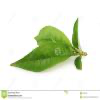Peach leaf: (7, 41, 75, 73), (33, 23, 73, 53), (73, 16, 82, 49), (74, 52, 83, 71)
